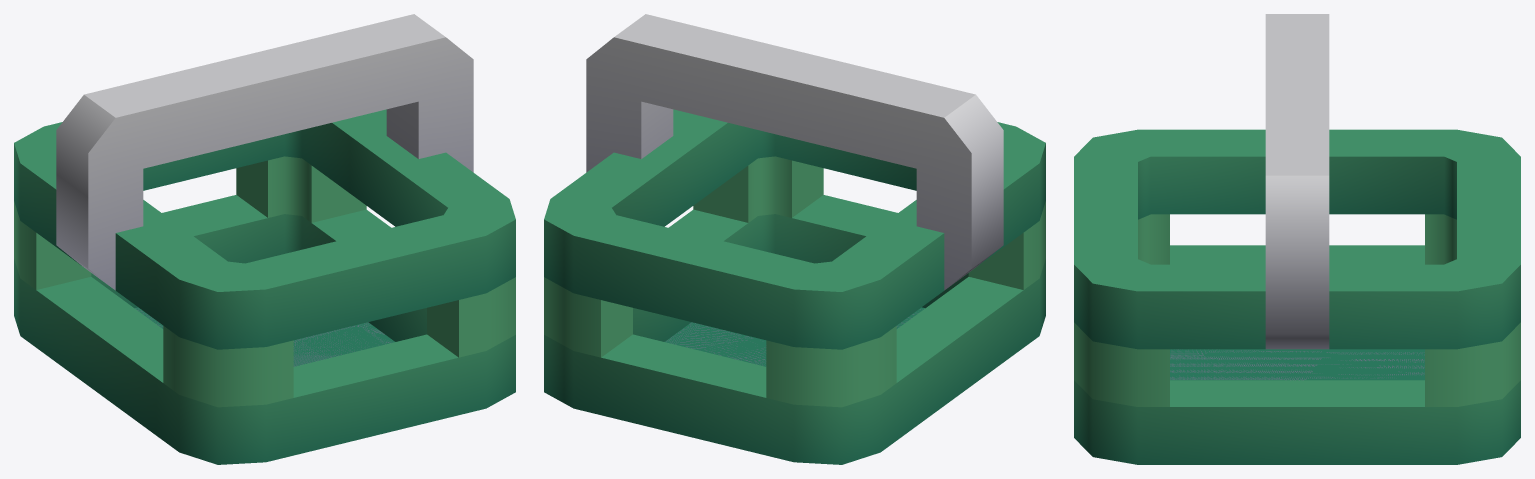
The model's file is shopping-basket.glb.
The picture shows the model from 3 angles, left to right: view 1: azimuth 30°, elevation 25°; view 2: azimuth 150°, elevation 25°; view 3: azimuth 270°, elevation 25°; orthographic projection.
Parts seen in each view (by area): view 1: shopping-basket; view 2: shopping-basket; view 3: shopping-basket.
Part boxes in pixels (bbox=[...]): shopping-basket: bbox=[14, 14, 515, 464]; shopping-basket: bbox=[544, 14, 1045, 464]; shopping-basket: bbox=[1074, 14, 1520, 464].
Bounding box in the file's own units: 0.35 × 0.25 × 0.35.
